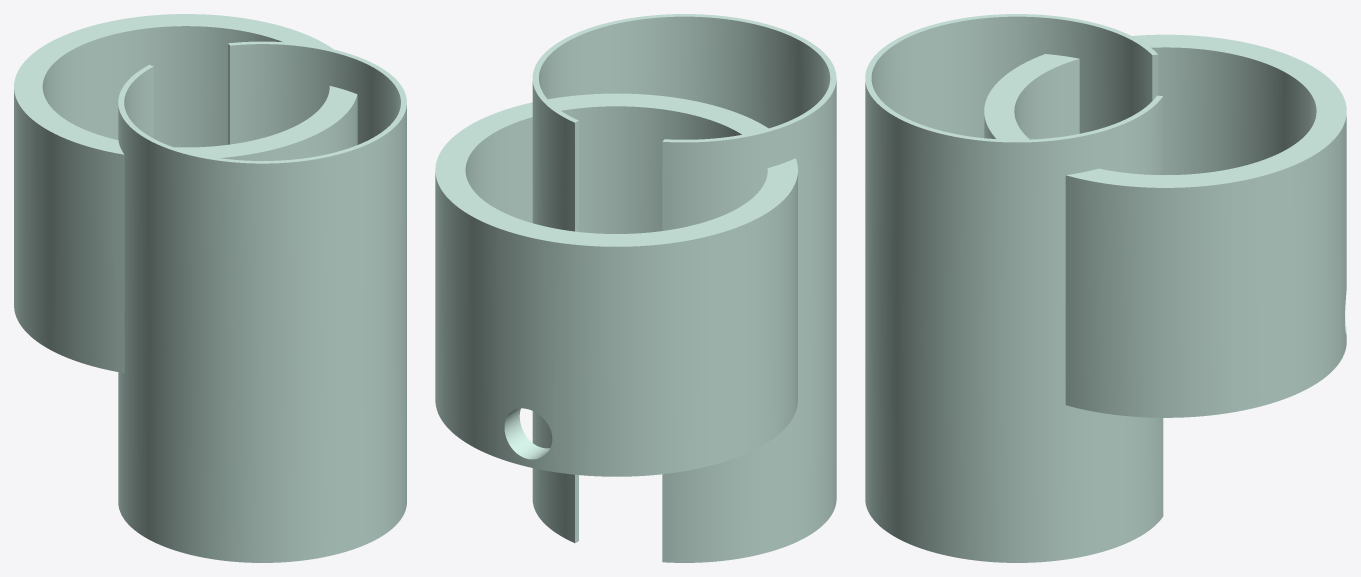
3 views of the same model, side by side, from view 1: azimuth 30°, elevation 25°; view 2: azimuth 150°, elevation 25°; view 3: azimuth 270°, elevation 25° (orthographic). The views are drawn at different scales.
Parts seen in each view (by area): view 1: Renderer Node; view 2: Renderer Node; view 3: Renderer Node.
Part boxes in pixels (x1,y1,x2,y2): Renderer Node: (14,14,406,562); Renderer Node: (435,14,836,562); Renderer Node: (865,14,1346,562).
Bounding box in the file's own units: 0.7815 × 1 × 1.04.
